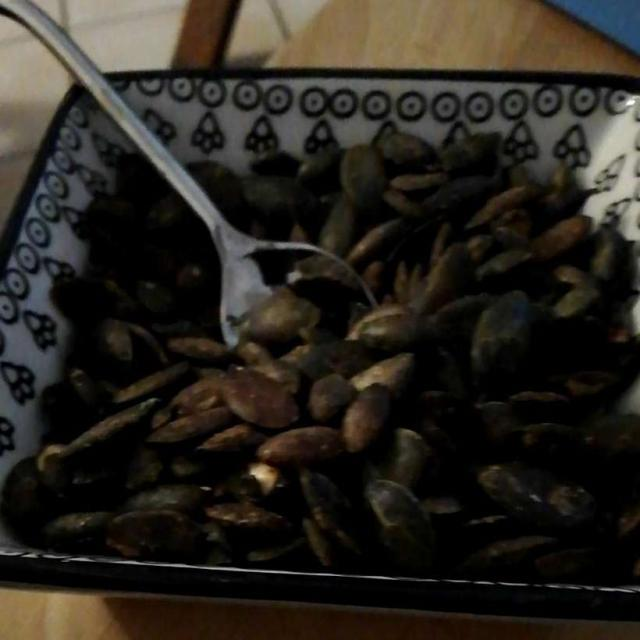pumpkin-seeds: (28, 128, 629, 597)
